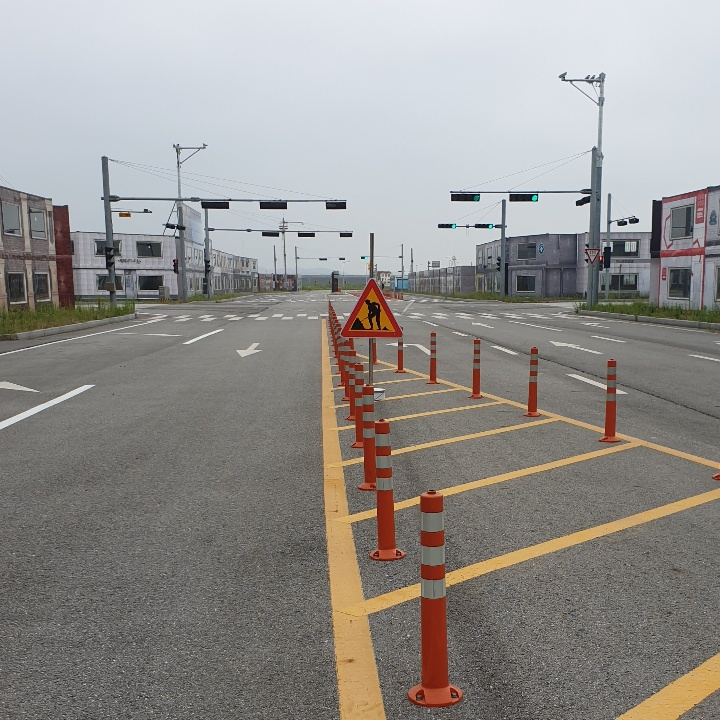const: (345, 289, 397, 331)
